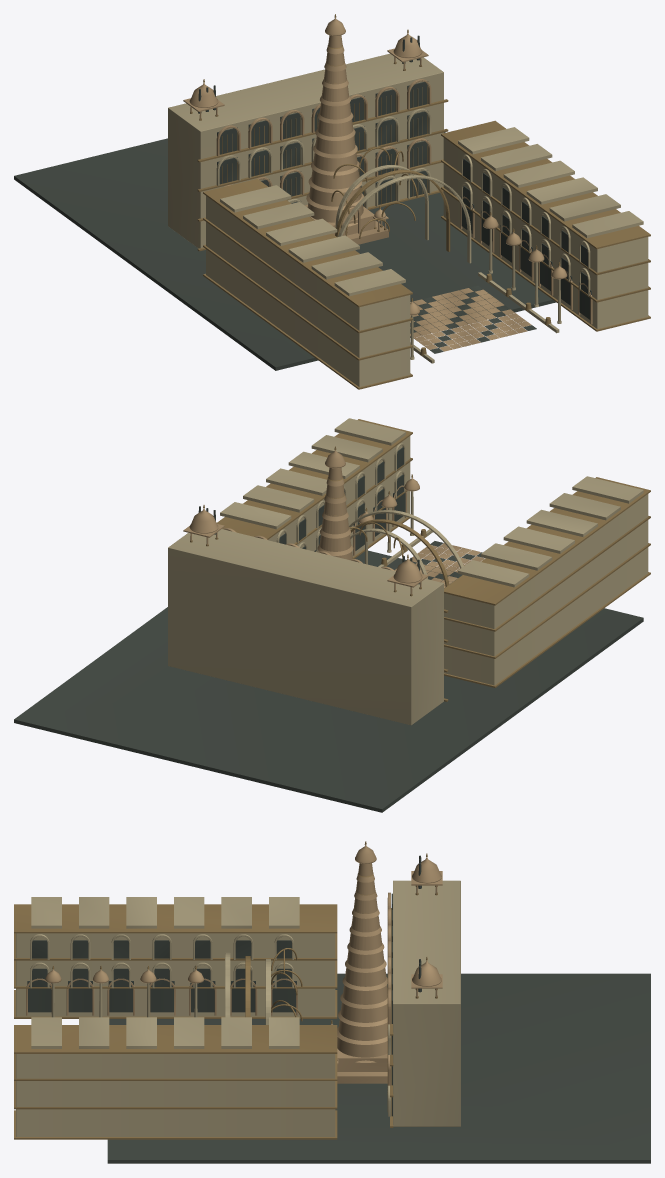
File: arena-100.glb
The picture shows the model from 3 angles, top to bottom: view 1: azimuth 30°, elevation 25°; view 2: azimuth 150°, elevation 25°; view 3: azimuth 270°, elevation 25°; orthographic projection. The views are drawn at different scales.
Parts seen in each view (by area): view 1: correction-plaster, correction-dark, correction-sand, correction-bronze; view 2: correction-plaster, correction-dark, correction-bronze, correction-sand; view 3: correction-plaster, correction-dark, correction-bronze, correction-sand.
Boxes of the visible parts, <box> form: correction-plaster: <box>168,53,648,386</box>; correction-dark: <box>14,35,591,370</box>; correction-sand: <box>183,17,592,351</box>; correction-bronze: <box>190,14,650,389</box>; correction-plaster: <box>168,418,648,725</box>; correction-dark: <box>14,447,643,812</box>; correction-bronze: <box>190,419,650,701</box>; correction-sand: <box>183,450,484,594</box>; correction-plaster: <box>16,880,460,1136</box>; correction-dark: <box>27,855,650,1163</box>; correction-bronze: <box>14,841,437,1139</box>; correction-sand: <box>26,845,442,1085</box>.
Size of the model in its own units: 65 by 37.24 by 93.8.
